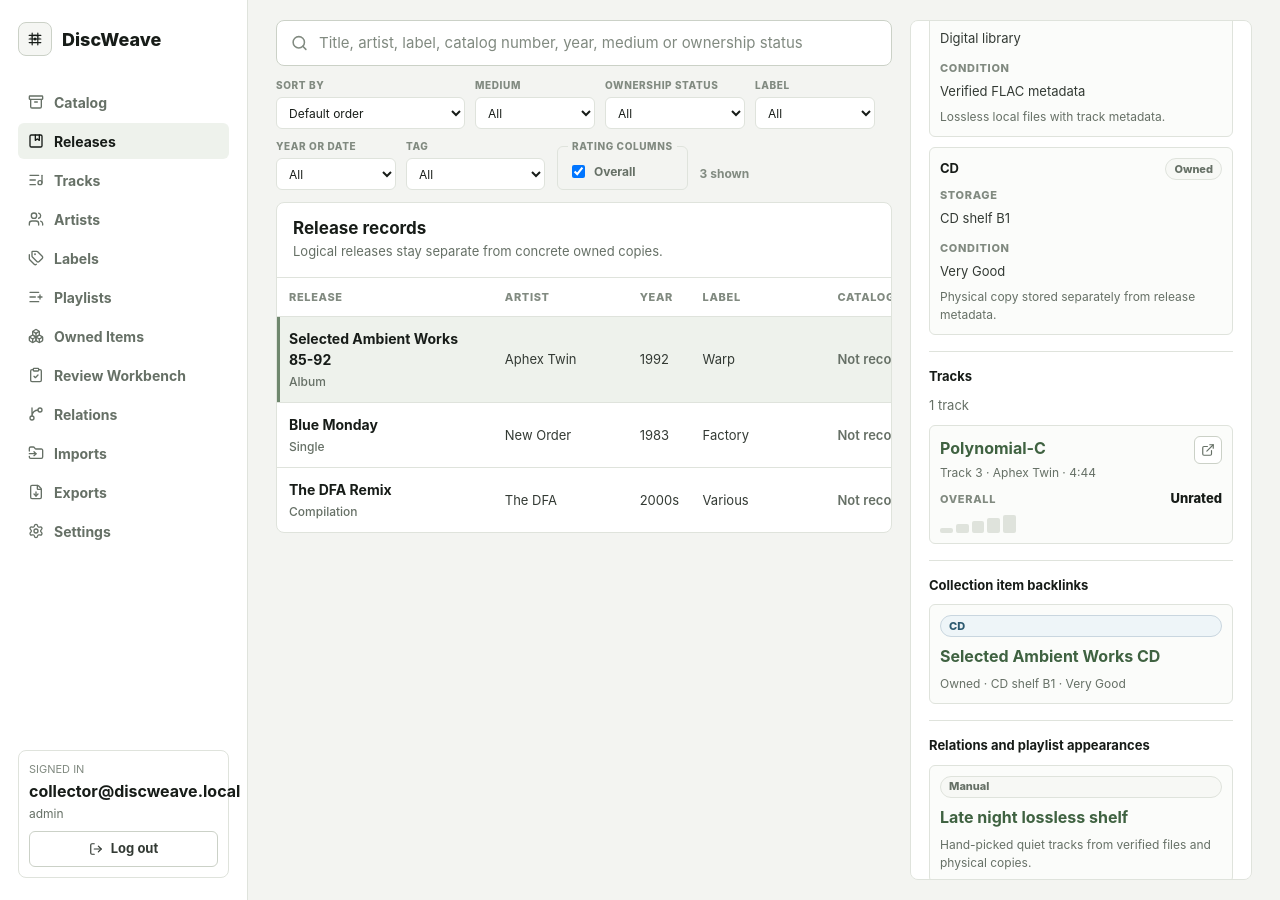
App release Track quick open › hands a direct-open failure to the existing retry panel
The width and height of the screenshot is (1280, 900).
(page scrolled)
Step 1. Click the button named "Open Polynomial-C in default player" → [1208, 450], box [1194, 436, 1222, 464]
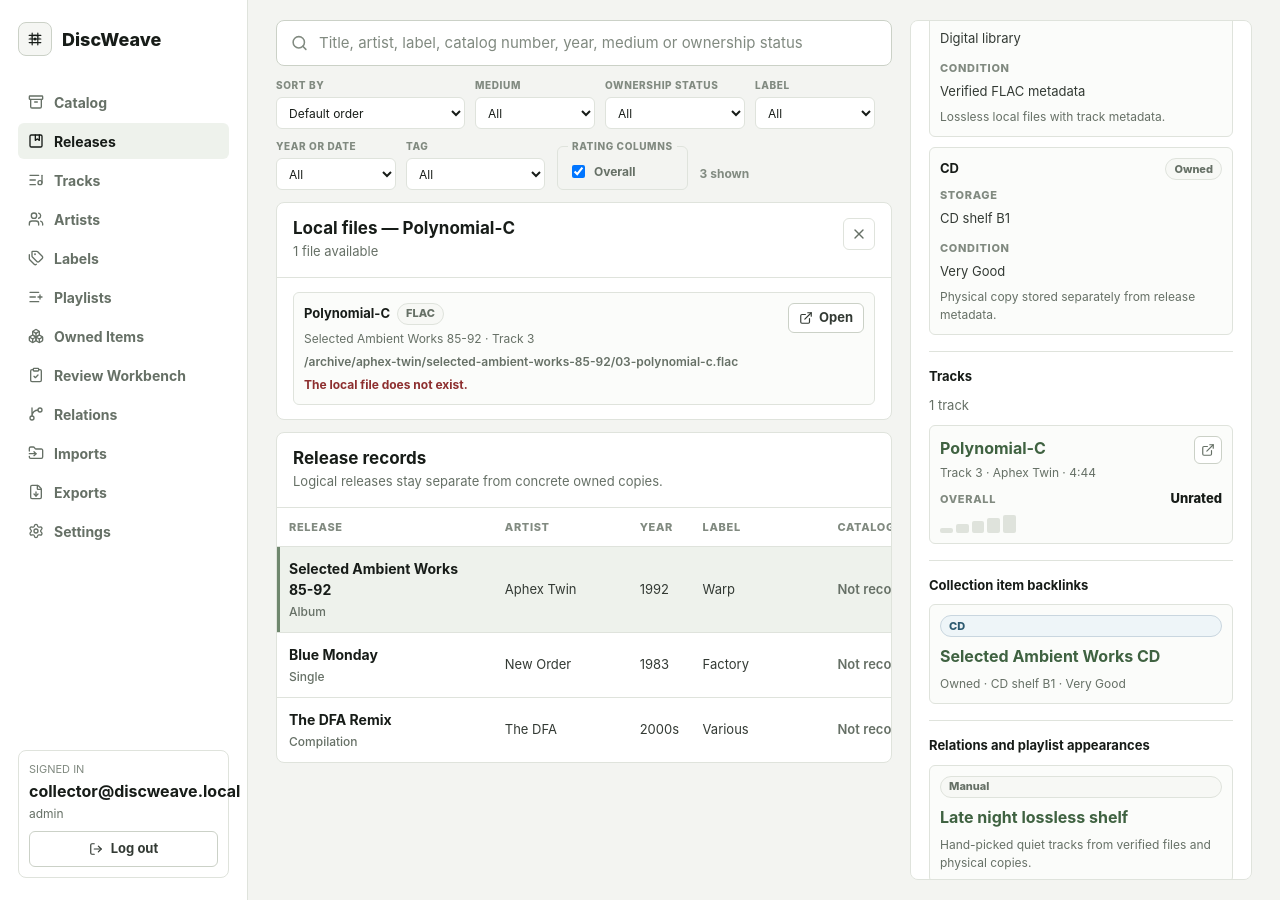
Expected: the message reads "The local file does not exist.", [304, 377, 468, 392]
Step 2. Click the button named "Open local file Polynomial-C Selected Ambient Works 85-92 Track 3" → [826, 318], box [788, 303, 864, 333]
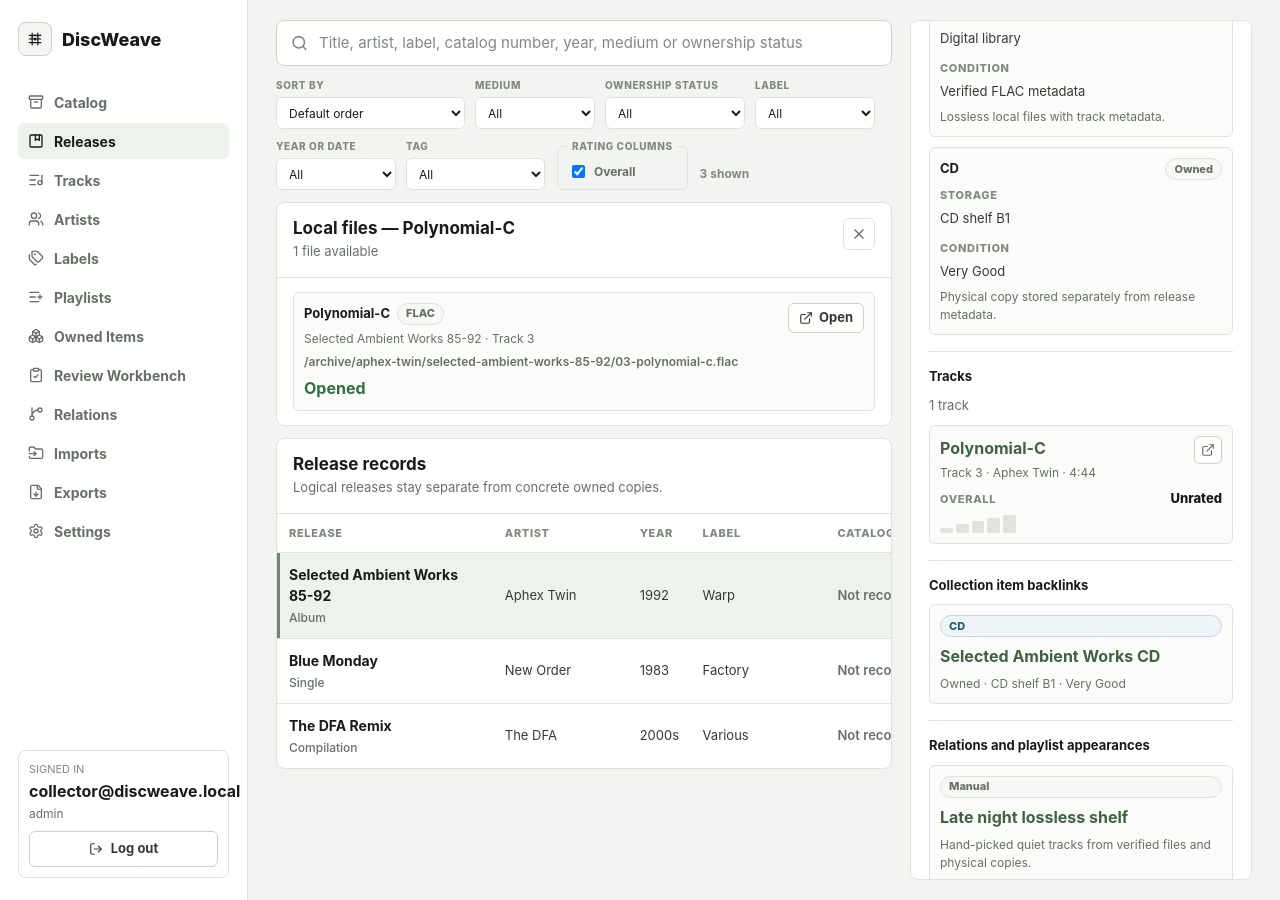
Expected: the text "Opened" is shown, [304, 378, 366, 398]
